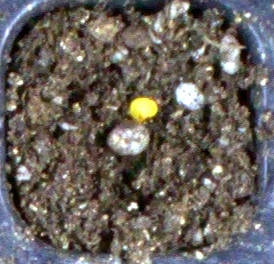pepper seed: (47, 35, 207, 158)
